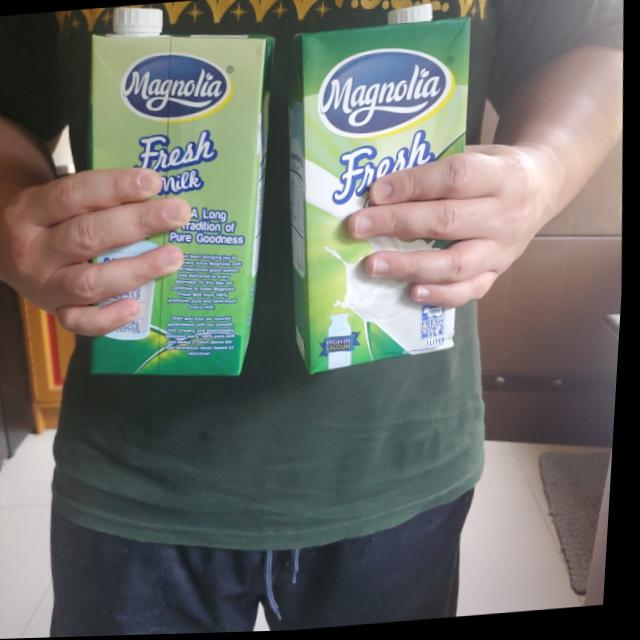milk: (70, 0, 296, 391), (271, 1, 490, 384)
